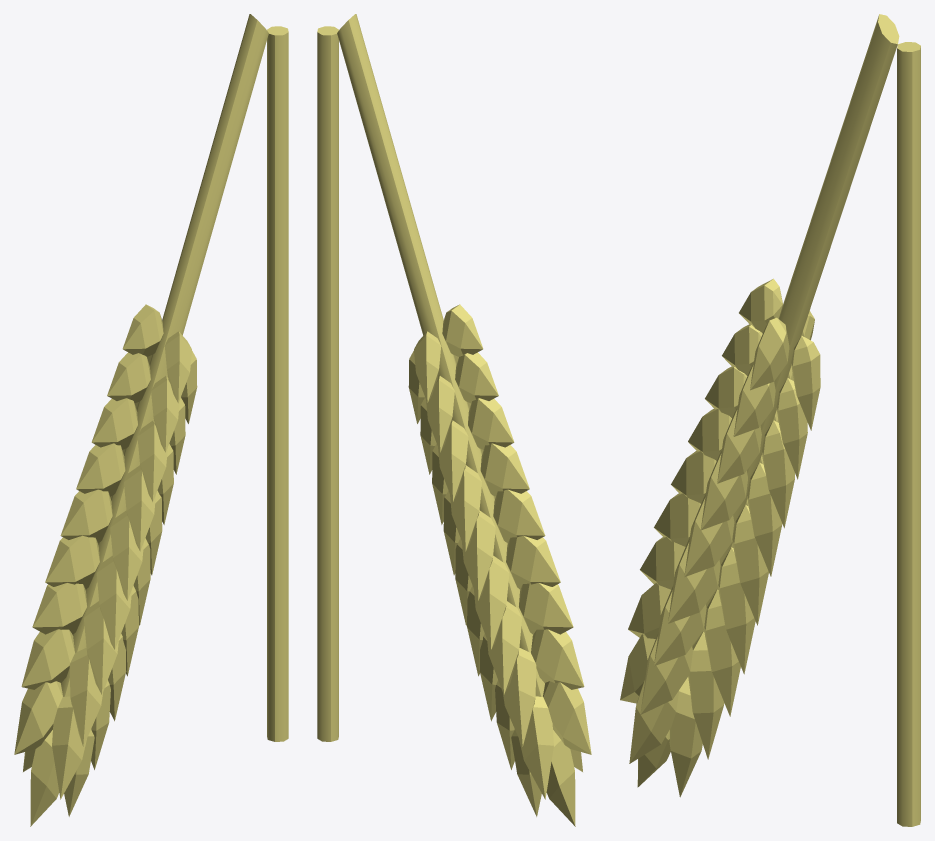
Rendered from Wheat3.fbx.
The picture shows the model from 3 angles, left to right: view 1: azimuth 30°, elevation 25°; view 2: azimuth 150°, elevation 25°; view 3: azimuth 330°, elevation 25°; orthographic projection. The views are drawn at different scales.
Visible parts, largest first — view 1: Wheat3; view 2: Wheat3; view 3: Wheat3.
Part boxes in pixels (x1,y1,x2,y2): Wheat3: (14,14,288,826); Wheat3: (317,14,591,826); Wheat3: (620,14,920,826).
Bounding box in the file's own units: 1.1 × 2.91 × 0.3956.
